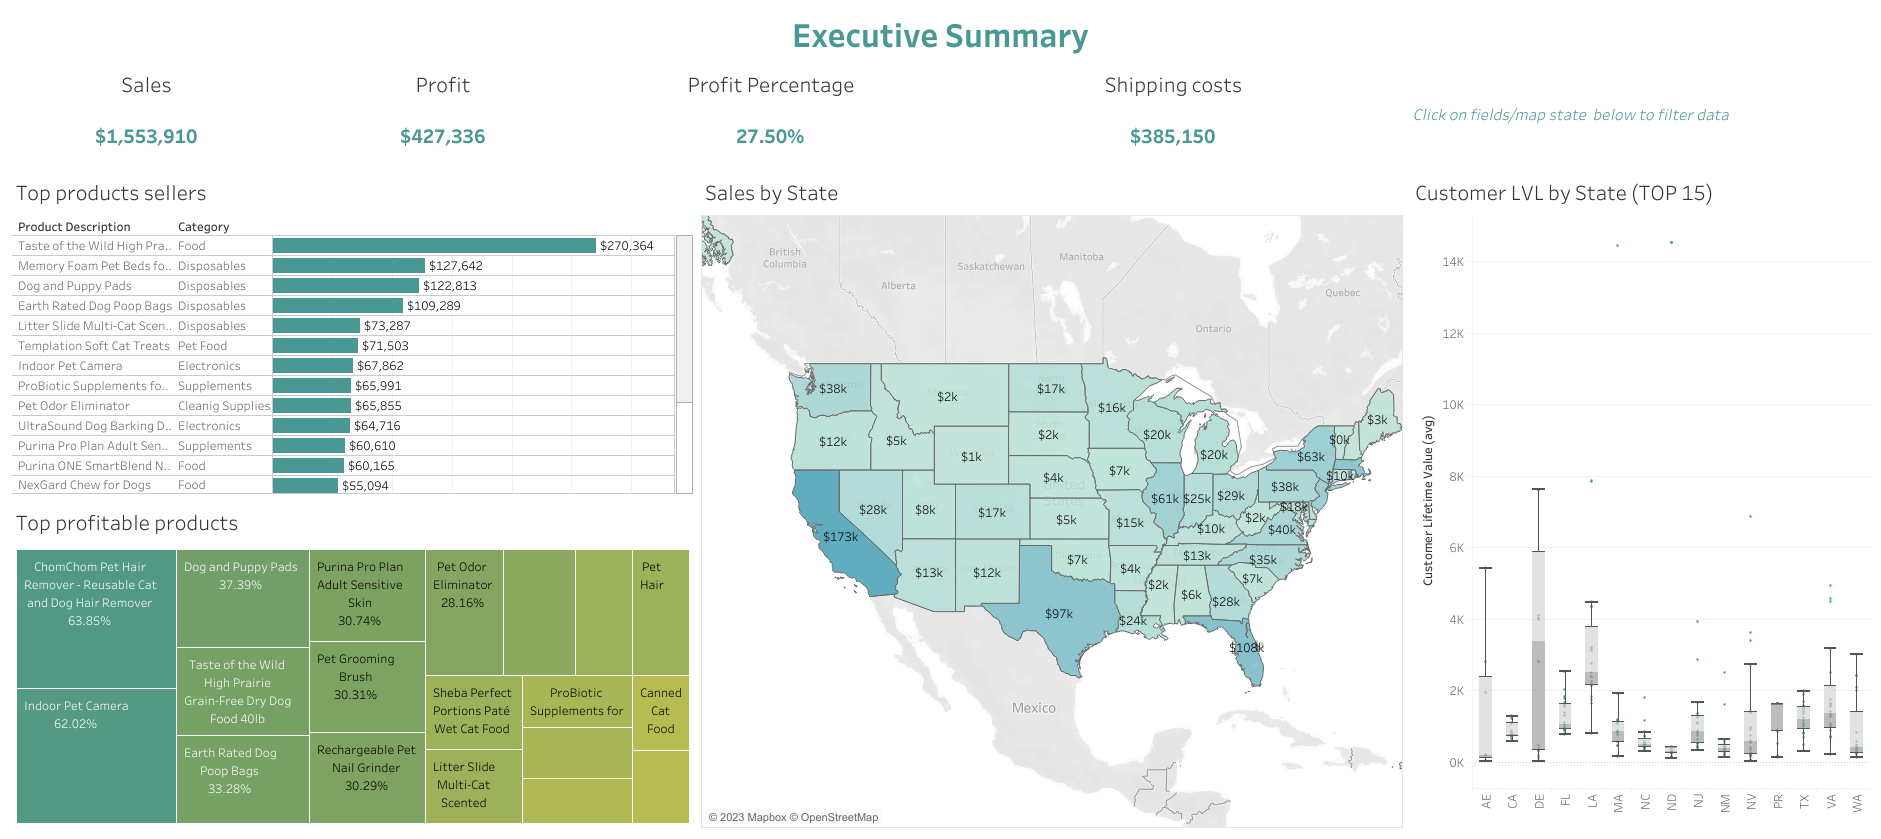

Layout of this report page (visuals, bound fields, positions):
{"tool":"tableau","page":{"name":"Executive Summary","canvas":[1000,1000],"units":"permille","ordinal":0},"visuals":[{"type":"title","box":[5,9.7,989.9,62.7]},{"type":"worksheet","title":"BAN-Sales","mark":"Automatic","box":[5,72.4,147.1,127.8]},{"type":"worksheet","title":"BAN-Profit","mark":"Automatic","box":[152.1,72.4,167.3,127.8]},{"type":"worksheet","title":"BAN-Profit Percentage","mark":"Automatic","box":[319.4,72.4,180.6,127.8]},{"type":"worksheet","title":"Shipping (Baseline)","mark":"Automatic","box":[500,72.4,246.8,127.8]},{"type":"text","box":[746.8,72.4,248.1,127.8]},{"type":"worksheet","title":"Top sellers","mark":"Automatic","rows":["Description (dim_products.csv)","Category"],"cols":["Sales"],"box":[5,200.2,365.5,393]},{"type":"worksheet","title":"Sales by State Map","mark":"Automatic","box":[370.5,200.2,376.7,790.1]},{"type":"worksheet","title":"LTV by State","mark":"Circle","rows":["Calculation_800444513980031009"],"cols":["State"],"box":[747.2,200.2,247.8,790.1]},{"type":"worksheet","title":"Treemap","mark":"Automatic","box":[5,593.2,365.5,397.1]}]}

Visuals, with their boxes on the dashboard's canvas, which has no fixed pixel size, in thousandths of its width and height (x1, y1, x2, y2). These are canvas units, not pixel positions in the 1881x839 screenshot, which may show the page scaled, cropped or inside an application window:
title: 5:10:995:72
"BAN-Sales" worksheet: 5:72:152:200
"BAN-Profit" worksheet: 152:72:319:200
"BAN-Profit Percentage" worksheet: 319:72:500:200
"Shipping (Baseline)" worksheet: 500:72:747:200
text: 747:72:995:200
"Top sellers" worksheet: 5:200:370:593
"Sales by State Map" worksheet: 370:200:747:990
"LTV by State" worksheet (Circle marks): 747:200:995:990
"Treemap" worksheet: 5:593:370:990
